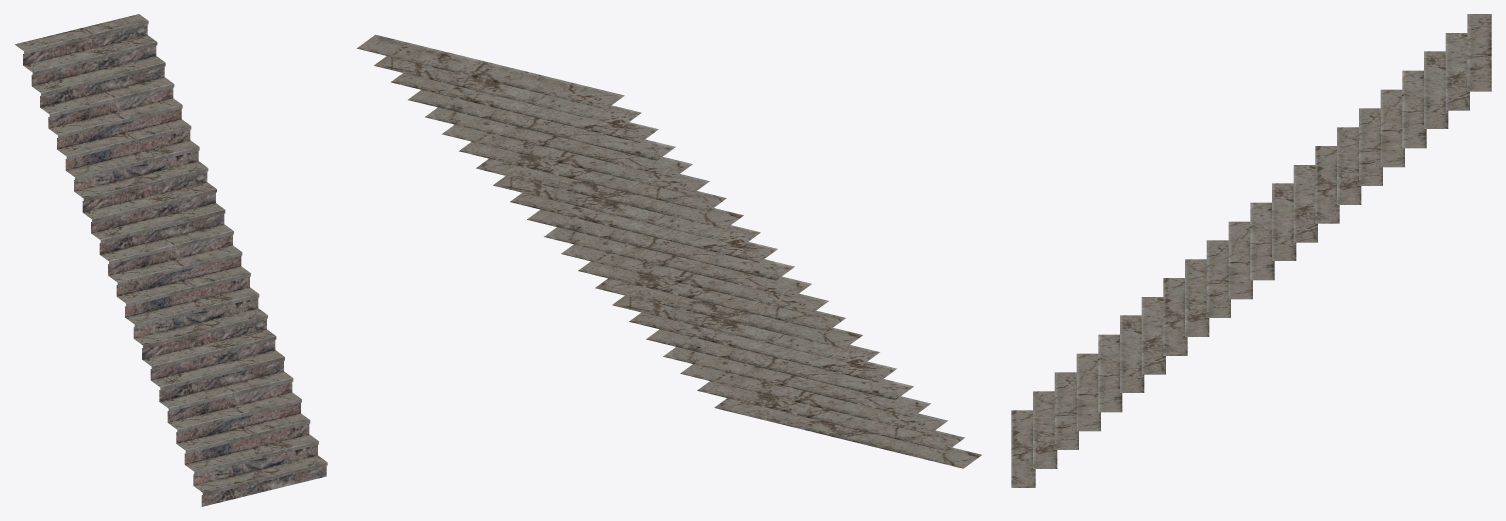
File: ghat_stairs.glb
The picture shows the model from 3 angles, left to right: view 1: azimuth 30°, elevation 25°; view 2: azimuth 150°, elevation 25°; view 3: azimuth 270°, elevation 25°; orthographic projection. The views are drawn at different scales.
Visible parts, largest first — view 1: stairs_stone_0; view 2: stairs_stone_0; view 3: stairs_stone_0.
Part boxes in pixels (left/top/right/bottom): stairs_stone_0: left=15, top=14, right=327, bottom=506; stairs_stone_0: left=357, top=34, right=981, bottom=468; stairs_stone_0: left=1011, top=14, right=1491, bottom=487.
Size of the model in its own units: 1.52 by 3.78 by 3.97.
1 material, 1 textured.
